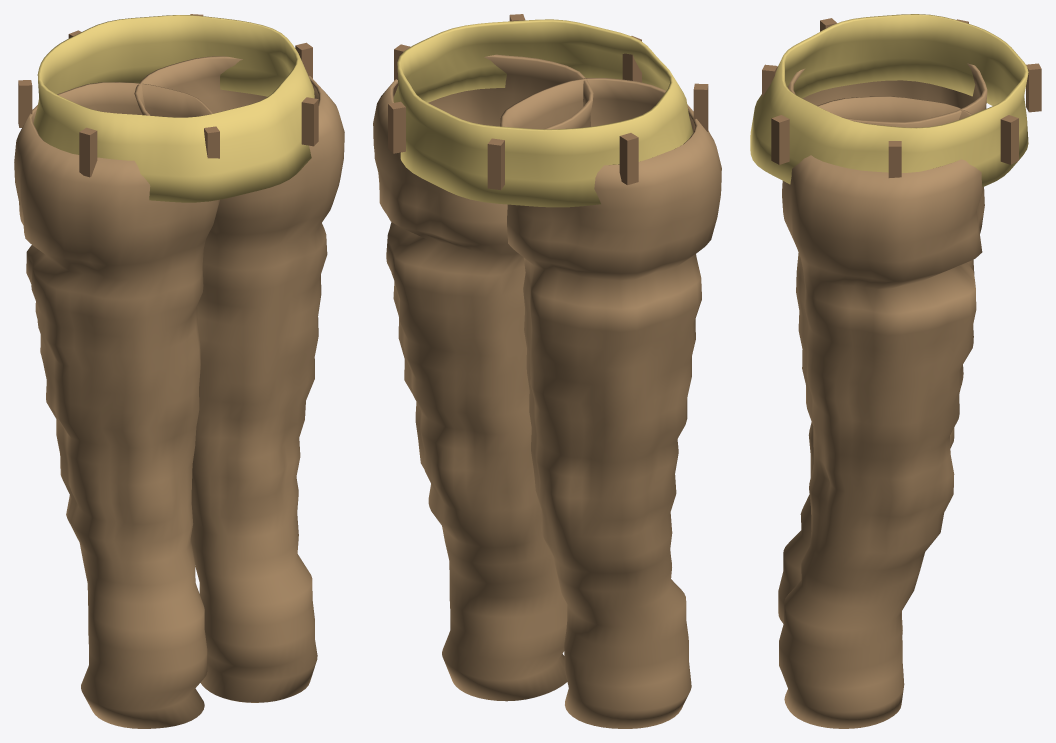
File: stoffhose_stiefel.glb
3 views of the same model, side by side, from view 1: azimuth 30°, elevation 25°; view 2: azimuth 150°, elevation 25°; view 3: azimuth 270°, elevation 25° (orthographic). The views are drawn at different scales.
Visible parts, largest first — view 1: G_stoffhose; view 2: G_stoffhose; view 3: G_stoffhose.
Boxes of the visible parts, box(x1,y1,x2,y2) form: G_stoffhose: box(14, 14, 344, 728); G_stoffhose: box(373, 14, 721, 728); G_stoffhose: box(750, 14, 1041, 728).
Bounding box in the file's own units: 0.3805 × 0.719 × 0.3117.
